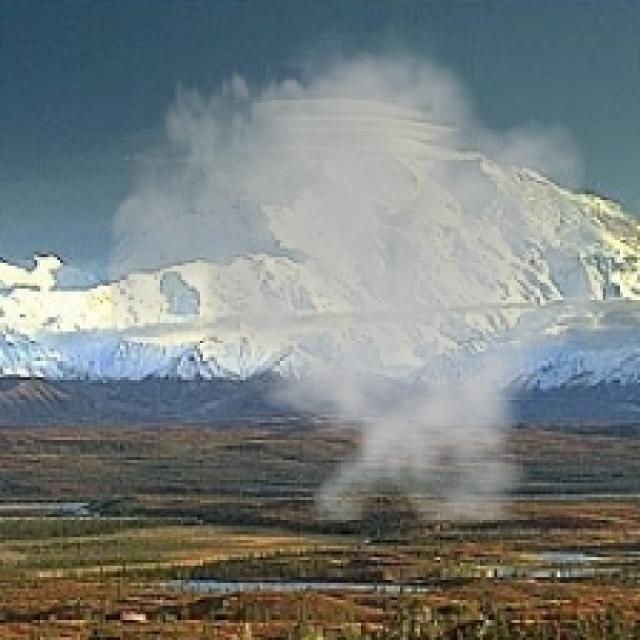Smoke: (105, 3, 626, 520)
